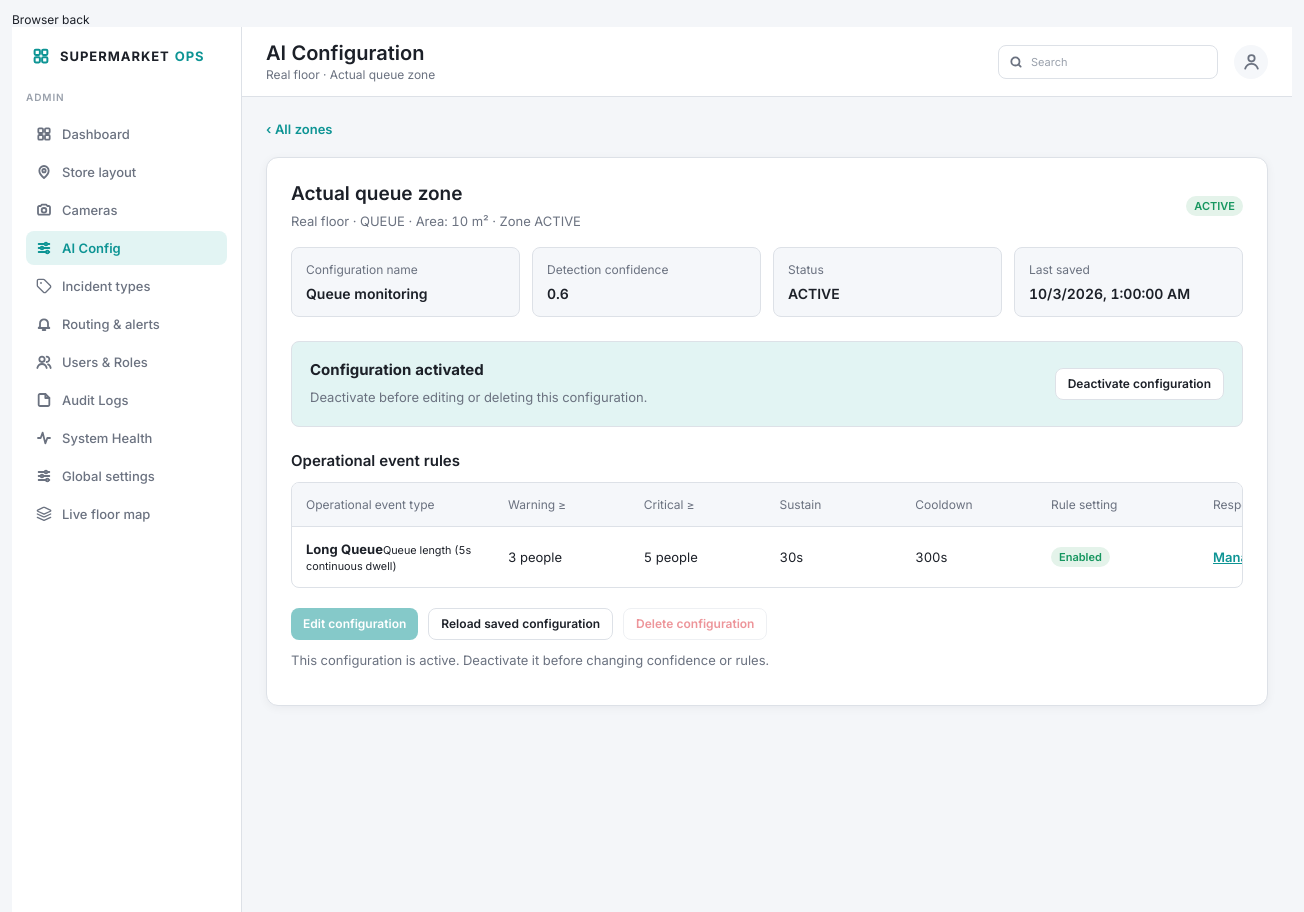
Test: API-backed monitoring configuration › requires deactivation before deleting and exposes activation as an explicit next step
Expected: the button "Delete configuration" is disabled, [623, 608, 768, 640]
What coordinates should you click on to do the following:
click the button "Deactivate configuration"
I would click on:
 (1139, 384)
Its box is [1055, 368, 1224, 400].
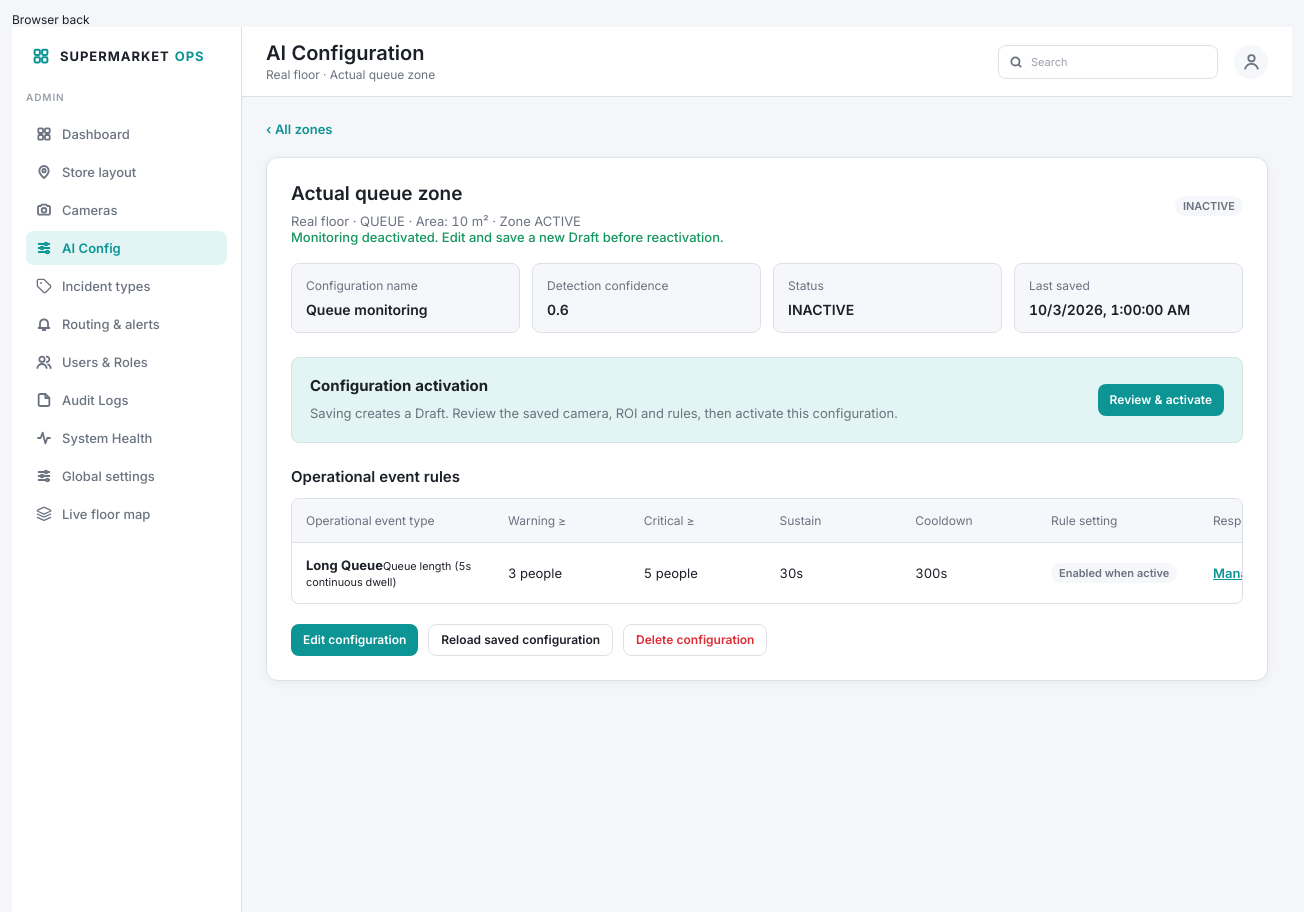
Expected: the button "Review & activate" is enabled, [1098, 384, 1224, 416]
Expected: the heading "Configuration activation" is shown, [310, 376, 488, 395]
Expected: the button "Delete configuration" is enabled, [623, 624, 768, 656]
